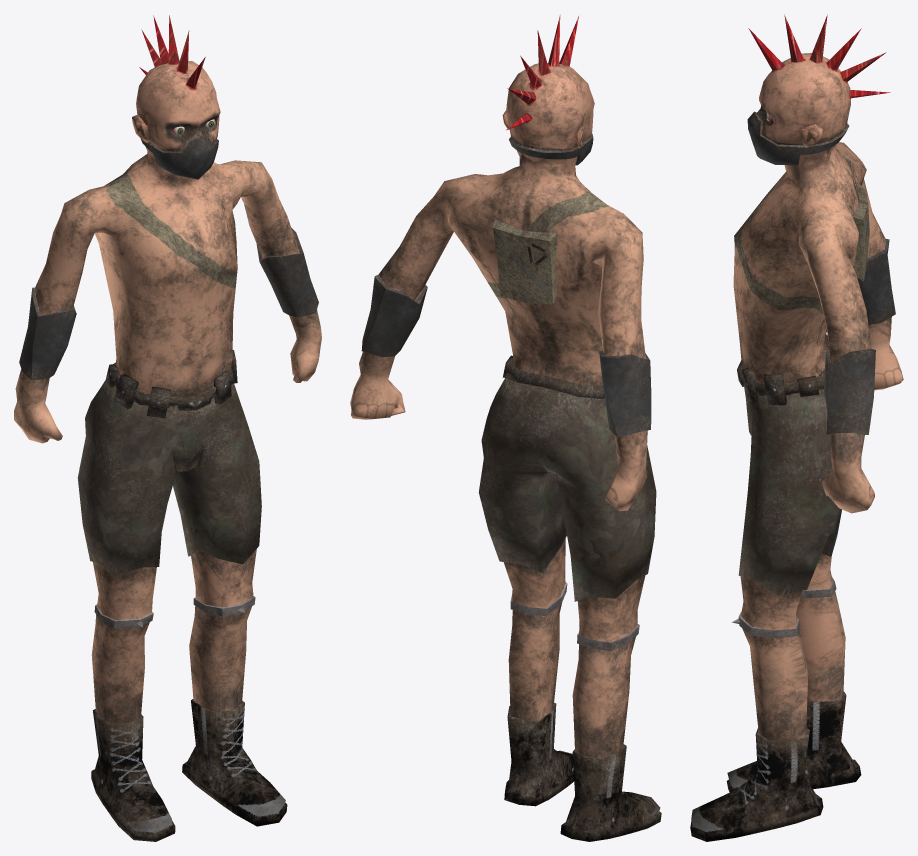
The model's file is Anim_ganar_1_npc2.0045.obj.
The picture shows the model from 3 angles, left to right: view 1: azimuth 30°, elevation 25°; view 2: azimuth 150°, elevation 25°; view 3: azimuth 270°, elevation 25°; orthographic projection. The views are drawn at different scales.
Visible parts, largest first — view 1: polySurface1; view 2: polySurface1; view 3: polySurface1.
Part boxes in pixels (left/top/right/bottom): polySurface1: left=14, top=15, right=321, bottom=841; polySurface1: left=350, top=14, right=661, bottom=841; polySurface1: left=690, top=14, right=903, bottom=841.
Bounding box in the file's own units: 4.06 × 10.35 × 2.48.
